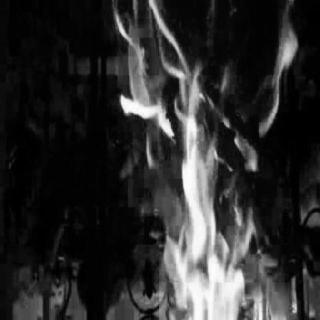Fire: (114, 2, 308, 320)
